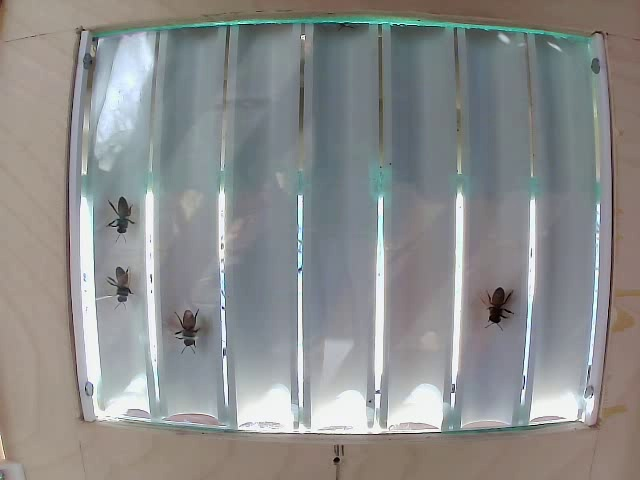bee: (104, 188, 147, 231), (173, 308, 210, 355), (485, 280, 516, 336), (109, 274, 135, 313)
